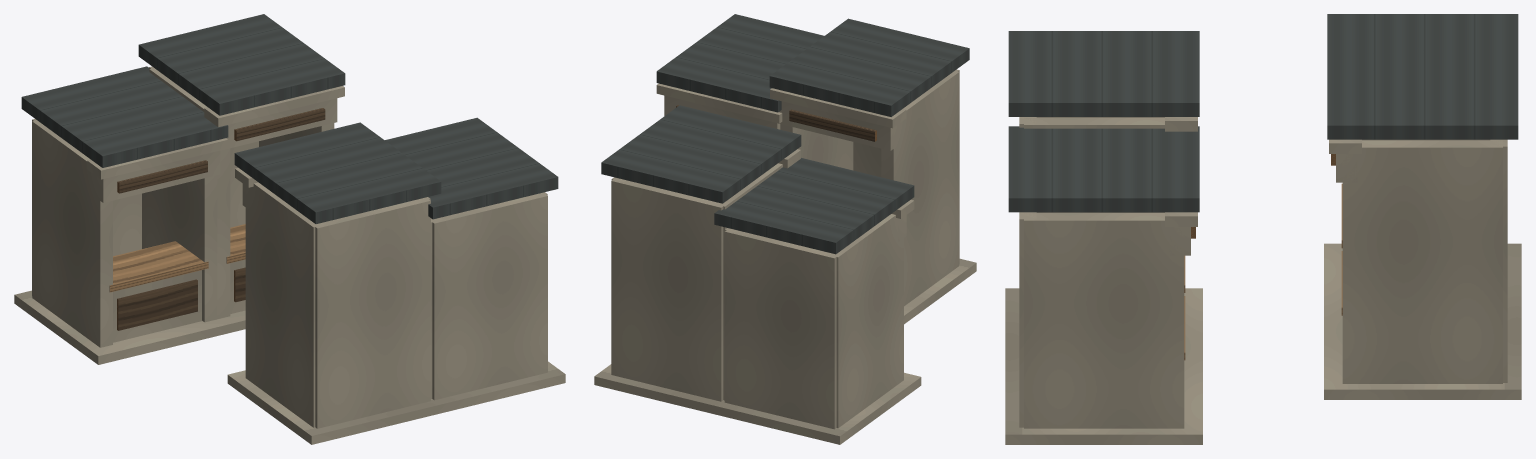
3 renders of one model, left to right at view 1: azimuth 30°, elevation 25°; view 2: azimuth 150°, elevation 25°; view 3: azimuth 270°, elevation 25°, orthographic. The views are drawn at different scales.
Visible parts, largest first — view 1: jalingo; view 2: jalingo; view 3: jalingo.
Boxes of the visible parts, <box> form: jalingo: <box>14,14,565,444</box>; jalingo: <box>594,14,976,444</box>; jalingo: <box>1005,14,1521,444</box>.
Bounding box in the file's own units: 3.47 × 2.3 × 3.97.
1 material, 1 textured.
